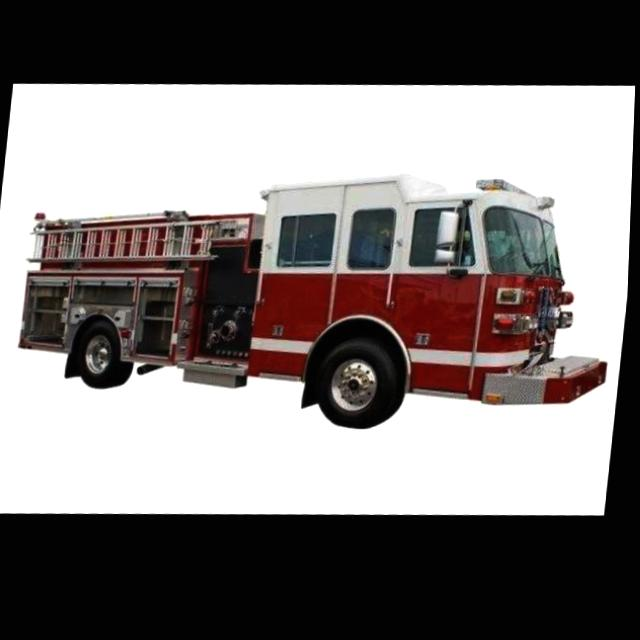emergency: (8, 139, 631, 469)
